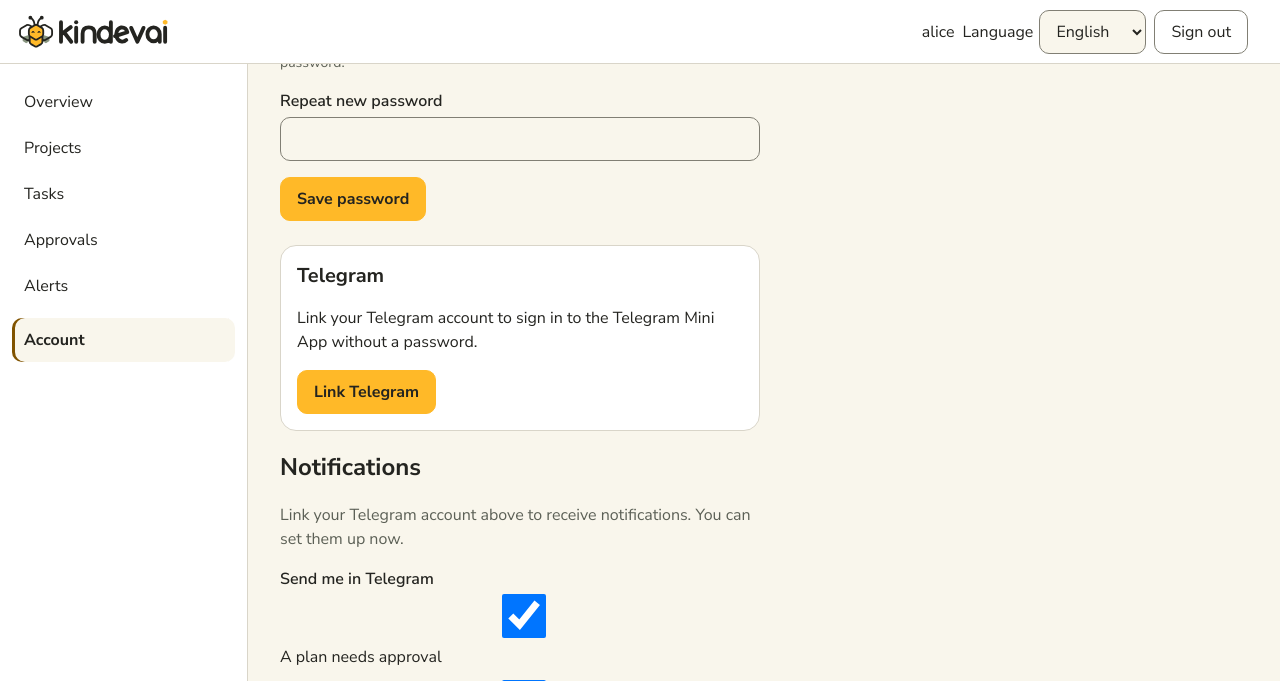
Test: Link Telegram — website side › shows the one-time link while waiting for Telegram
(page scrolled)
Step 1. Click the button "Link Telegram" → point(366, 392), box top-left (297, 370), bottom-right (436, 414)
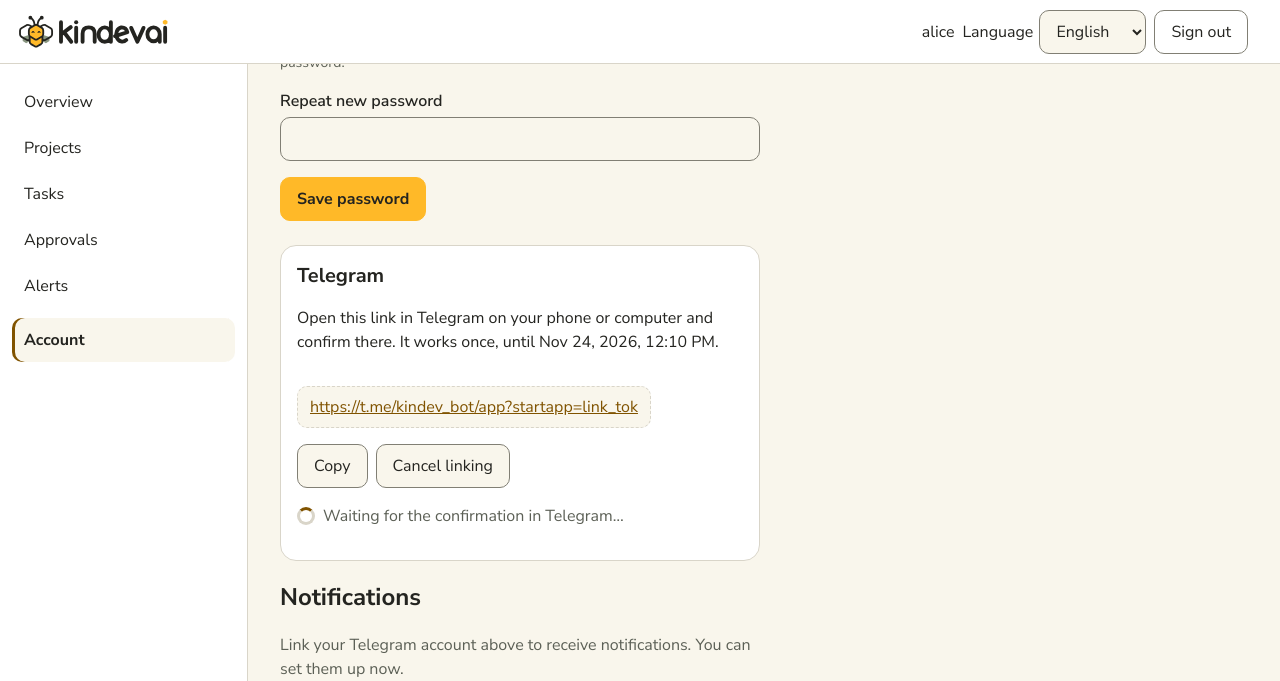
Expected: the link "https://t.me/kindev_bot/app?startapp=link_tok" is shown, top-left (310, 396), bottom-right (638, 418)
Expected: the text "Waiting for the confirmation in Telegram…" is shown, top-left (323, 504), bottom-right (624, 528)
